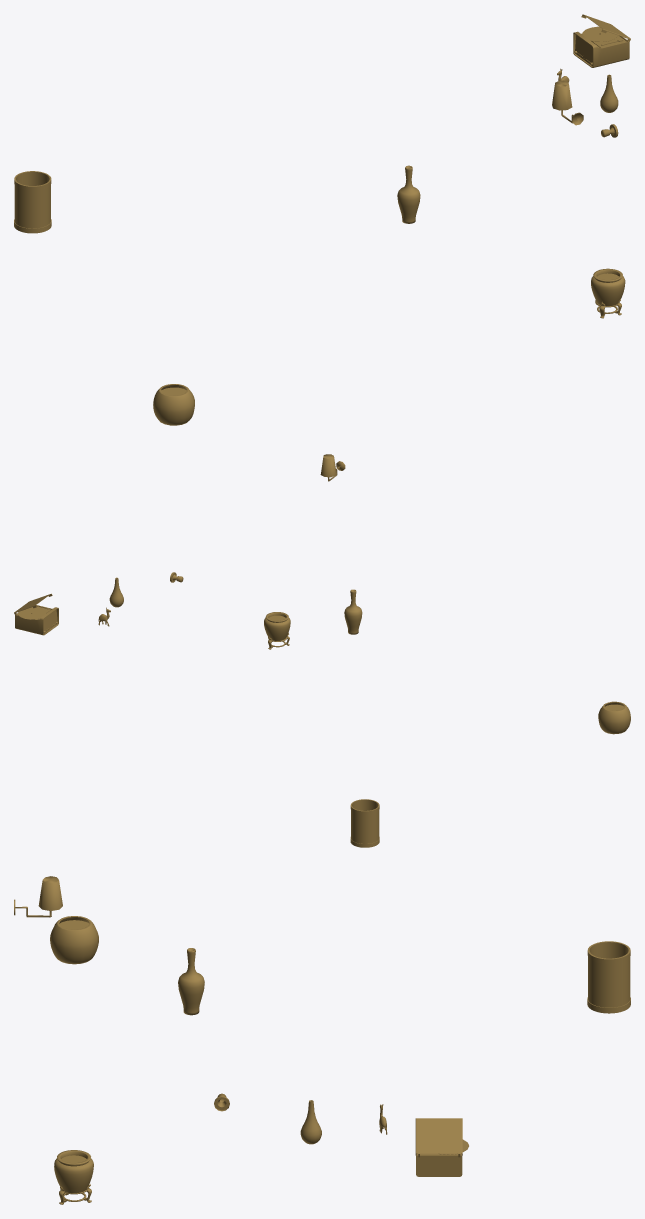
Rendered from Objetos-Decoracao.fbx.
3 views of the same model, one above another, from view 1: azimuth 30°, elevation 25°; view 2: azimuth 150°, elevation 25°; view 3: azimuth 270°, elevation 25° (orthographic). The views are drawn at different scales.
Parts seen in each view (by area): view 1: Lixeira, Vitrola, Vaso-PlantaA, Vaso-PlantaB, VasoA, Lampada; view 2: Lixeira, Vitrola, Vaso-PlantaA, Vaso-PlantaB; view 3: Lixeira, Vitrola, Vaso-PlantaA, Vaso-PlantaB, VasoA, Lampada, VasoB.
Part boxes in pixels (x1=…): Lixeira: x1=14, y1=171, x2=51, y2=233; Vitrola: x1=573, y1=14, x2=630, y2=67; Vaso-PlantaA: x1=153, y1=384, x2=194, y2=425; Vaso-PlantaB: x1=591, y1=268, x2=625, y2=318; VasoA: x1=397, y1=165, x2=420, y2=223; Lampada: x1=552, y1=80, x2=583, y2=125; Lixeira: x1=350, y1=799, x2=379, y2=847; Vitrola: x1=14, y1=593, x2=58, y2=635; Vaso-PlantaA: x1=598, y1=701, x2=630, y2=734; Vaso-PlantaB: x1=264, y1=612, x2=290, y2=649; Lixeira: x1=587, y1=941, x2=630, y2=1013; Vitrola: x1=415, y1=1118, x2=462, y2=1176; Vaso-PlantaA: x1=50, y1=916, x2=98, y2=964; Vaso-PlantaB: x1=54, y1=1150, x2=93, y2=1204; VasoA: x1=178, y1=948, x2=204, y2=1015; Lampada: x1=14, y1=876, x2=62, y2=917; VasoB: x1=300, y1=1100, x2=321, y2=1144.
Bounding box in the file's own units: 650 × 250 × 482.
